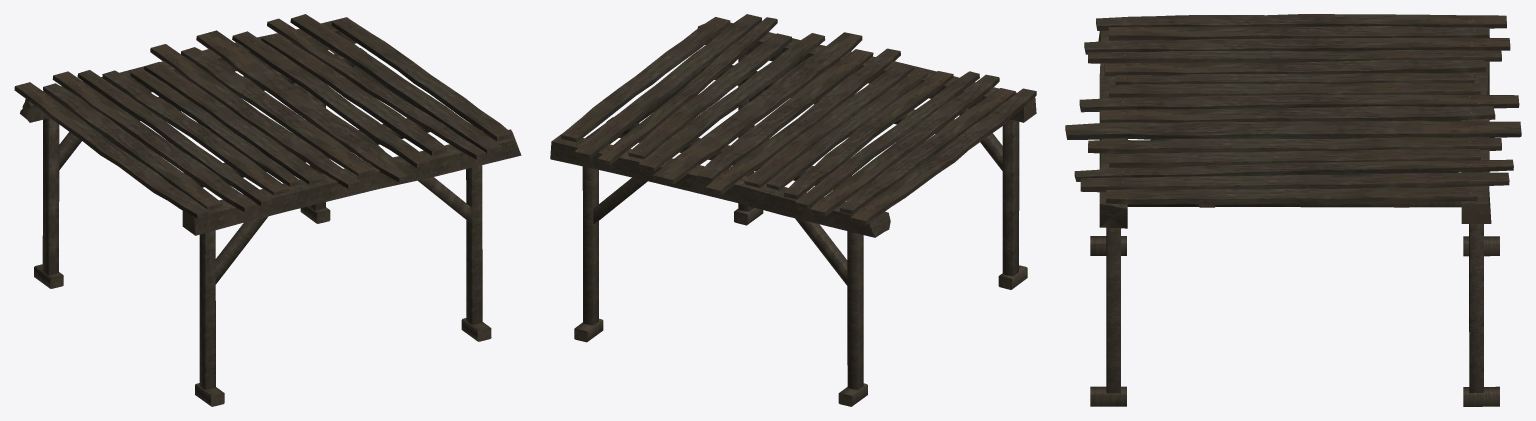
File: AEG023_248out-transformed.glb
The picture shows the model from 3 angles, left to right: view 1: azimuth 30°, elevation 25°; view 2: azimuth 150°, elevation 25°; view 3: azimuth 270°, elevation 25°; orthographic projection. The views are drawn at different scales.
Parts seen in each view (by area): view 1: default; view 2: default; view 3: default.
Boxes of the visible parts, left/top/right/bottom form: default: left=14, top=14, right=521, bottom=406; default: left=550, top=14, right=1036, bottom=406; default: left=1065, top=14, right=1521, bottom=406.
Bounding box in the file's own units: 5.21 × 2.84 × 5.22.
2 materials, 2 textured.
